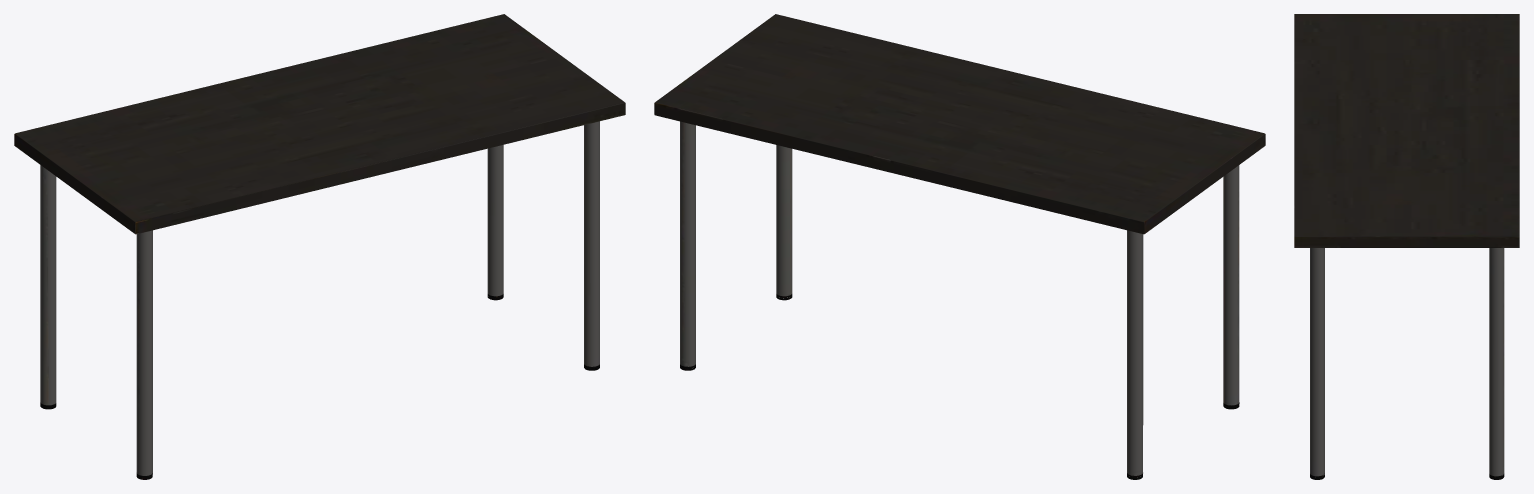
Rendered from 13 - LAGKAPTEN ADILS Desk - black-browndark grey 140x60 cm.glb.
3 renders of one model, left to right at view 1: azimuth 30°, elevation 25°; view 2: azimuth 150°, elevation 25°; view 3: azimuth 270°, elevation 25°, orthographic. The views are drawn at different scales.
Visible parts, largest first — view 1: Mesh_0, 80488191-ADILS001.001, 80488191-ADILS001, 80488191-ADILS001.002, 80488191-ADILS001.003; view 2: Mesh_0, 80488191-ADILS001, 80488191-ADILS001.001, 80488191-ADILS001.003, 80488191-ADILS001.002; view 3: Mesh_0, 80488191-ADILS001.003, 80488191-ADILS001.002.
Boxes of the visible parts, <box> form: Mesh_0: <box>14,14,625,234</box>; 80488191-ADILS001.001: <box>136,230,152,479</box>; 80488191-ADILS001: <box>40,165,56,409</box>; 80488191-ADILS001.002: <box>584,121,599,370</box>; 80488191-ADILS001.003: <box>487,145,503,300</box>; Mesh_0: <box>654,14,1265,234</box>; 80488191-ADILS001: <box>1127,230,1143,479</box>; 80488191-ADILS001.001: <box>1223,165,1239,409</box>; 80488191-ADILS001.003: <box>680,121,695,370</box>; 80488191-ADILS001.002: <box>776,145,792,300</box>; Mesh_0: <box>1294,14,1519,247</box>; 80488191-ADILS001.003: <box>1489,248,1504,479</box>; 80488191-ADILS001.002: <box>1310,248,1324,479</box>.
Bounding box in the file's own units: 1.4 × 0.7348 × 0.5999.
1 material, 1 textured.
